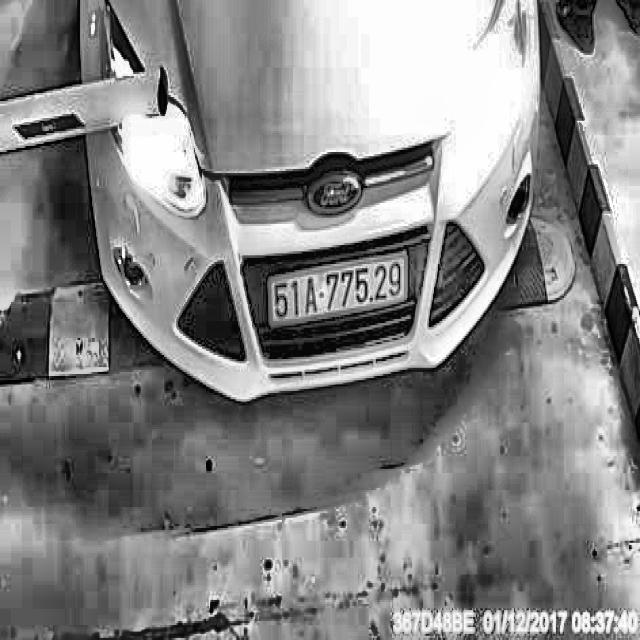plate: (265, 246, 412, 330)
